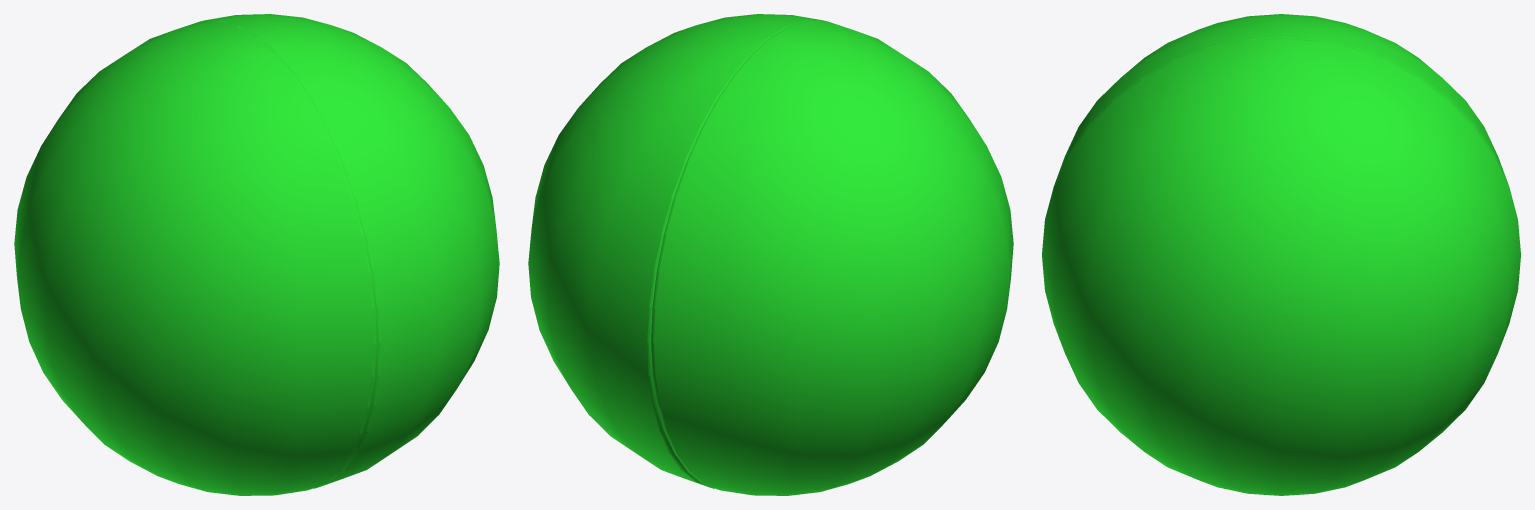
The model's file is watermelon_sliced.fbx.
The picture shows the model from 3 angles, left to right: view 1: azimuth 30°, elevation 25°; view 2: azimuth 150°, elevation 25°; view 3: azimuth 270°, elevation 25°; orthographic projection.
Parts seen in each view (by area): view 1: Watermelon1, Watermelon3; view 2: Watermelon1, Watermelon3; view 3: Watermelon3, Watermelon1.
Boxes of the visible parts, x1,y1,x2,y2 form: Watermelon1: [14, 20, 376, 495]; Watermelon3: [203, 14, 499, 488]; Watermelon1: [651, 20, 1013, 495]; Watermelon3: [528, 14, 824, 488]; Watermelon3: [1042, 38, 1520, 495]; Watermelon1: [1042, 14, 1520, 253].
Size of the model in its own units: 0.0203 by 0.02 by 0.02.
